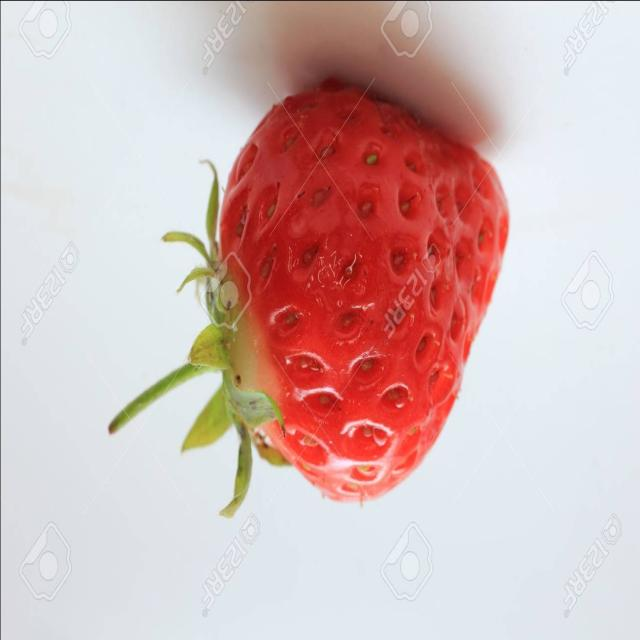strawberry: (79, 72, 531, 544)
